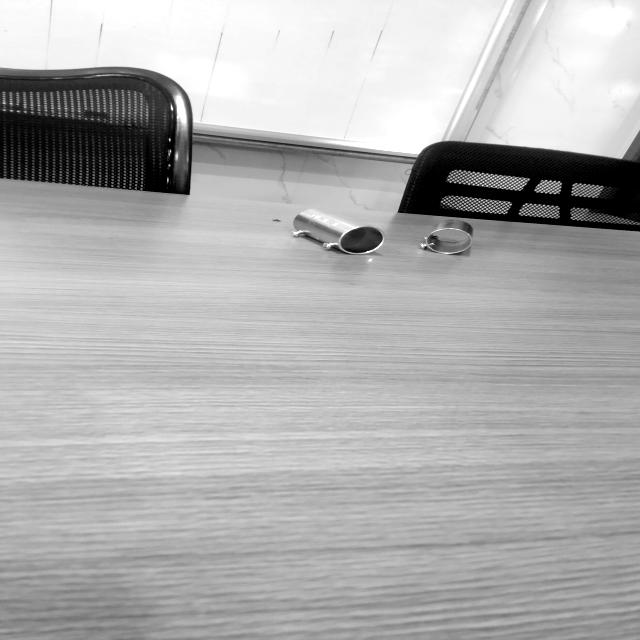Co_Lon: (288, 203, 387, 265)
Co_Nho: (420, 218, 473, 256)
